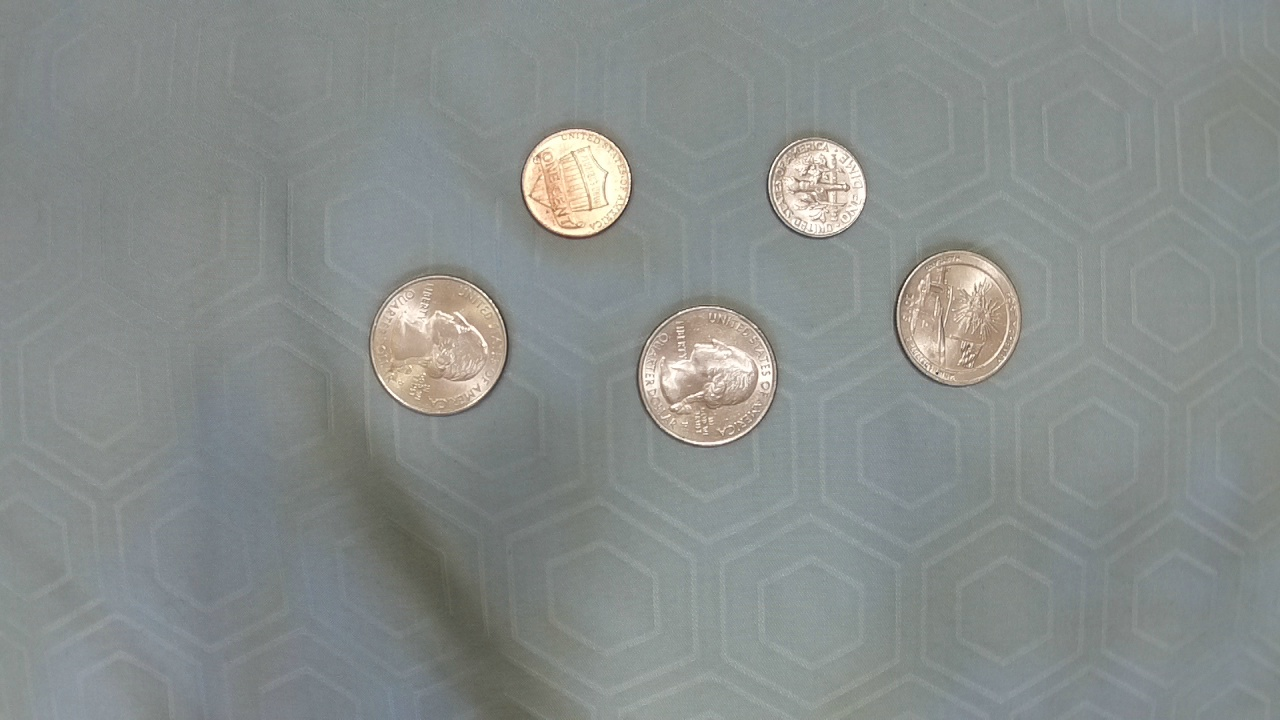dime: (764, 132, 870, 240)
penny: (518, 123, 636, 241)
quarter: (365, 264, 511, 420), (636, 300, 778, 452), (892, 246, 1022, 388)
